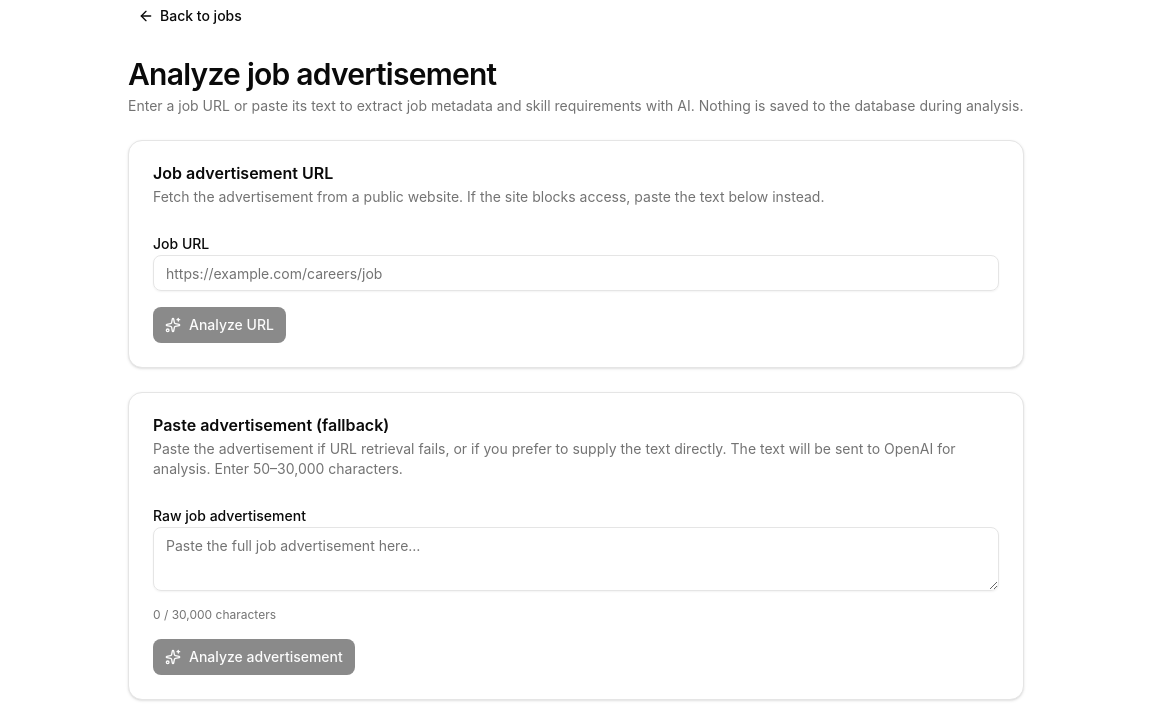
Test case: AnalyzeJobView (UC-12) › discards a proposal without persisting anything
This screenshot has width=1152, height=720.
Step 1. Type "Example Company seeks a Senior TypeScript Developer for our Copenhagen office. Full-time employment." into the text box with id "job-advertisement" → (576, 559), box [153,527,999,591]
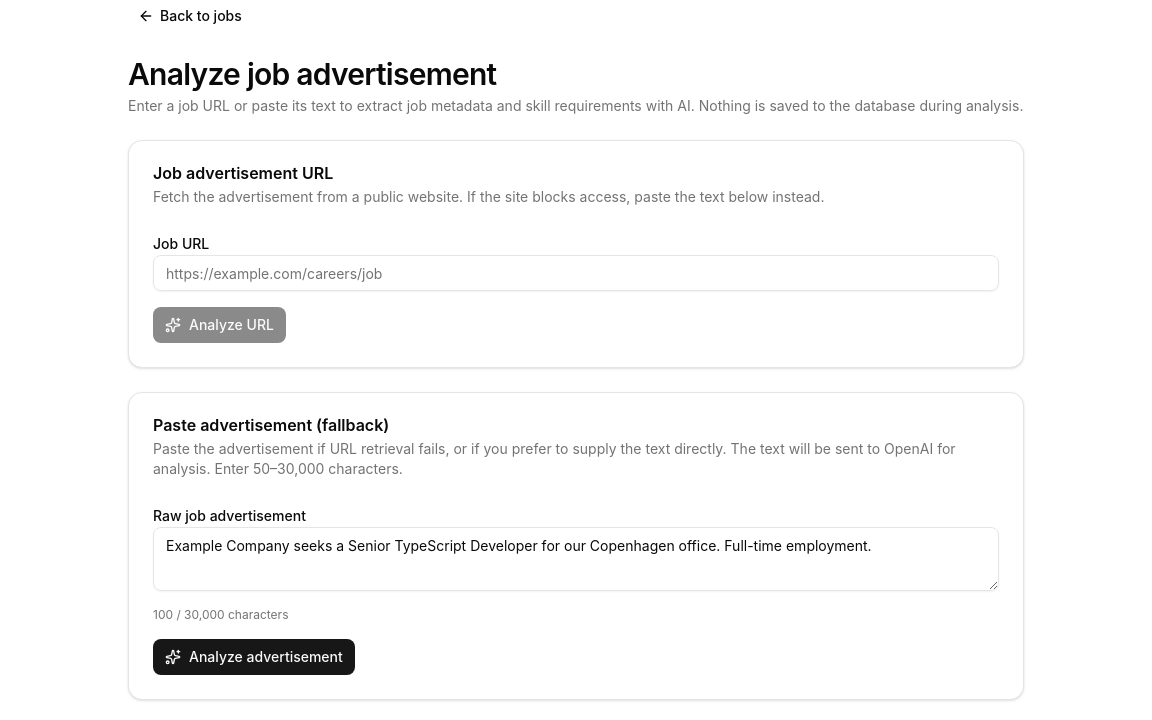
Step 2. Click the button "Analyze advertisement" → (254, 657), box [153,639,355,675]
(page scrolled)
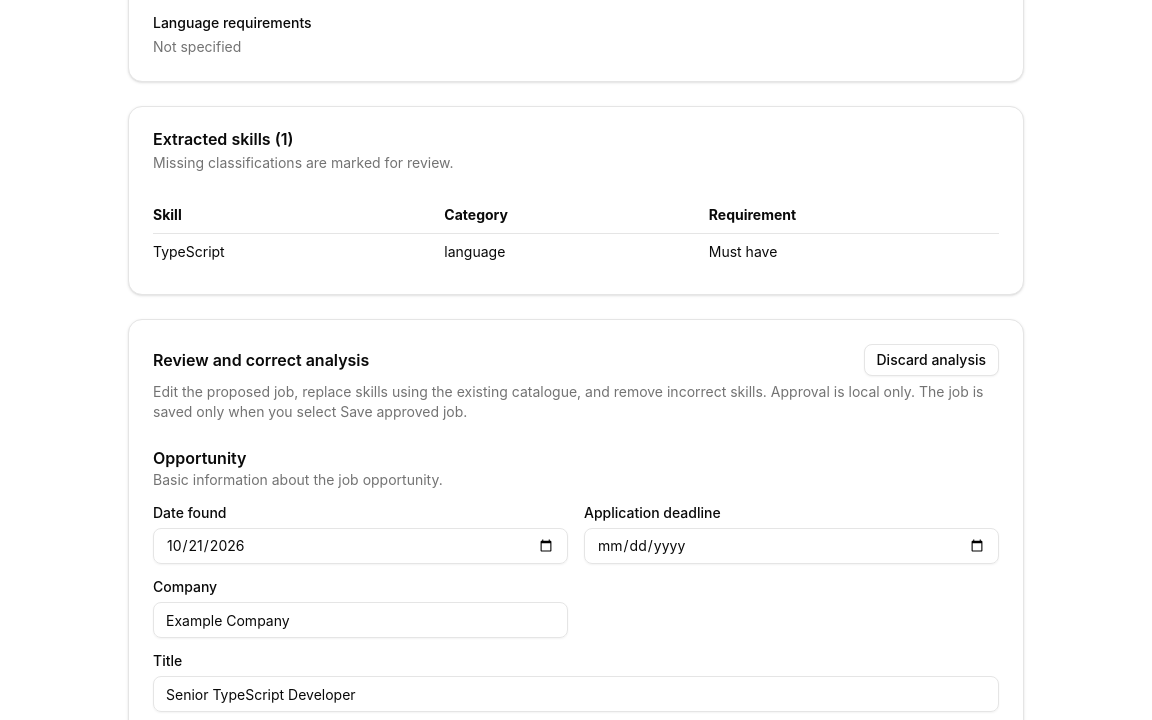
Step 3. Click the button "Discard analysis" → (931, 360), box [864,344,999,376]
(page scrolled)
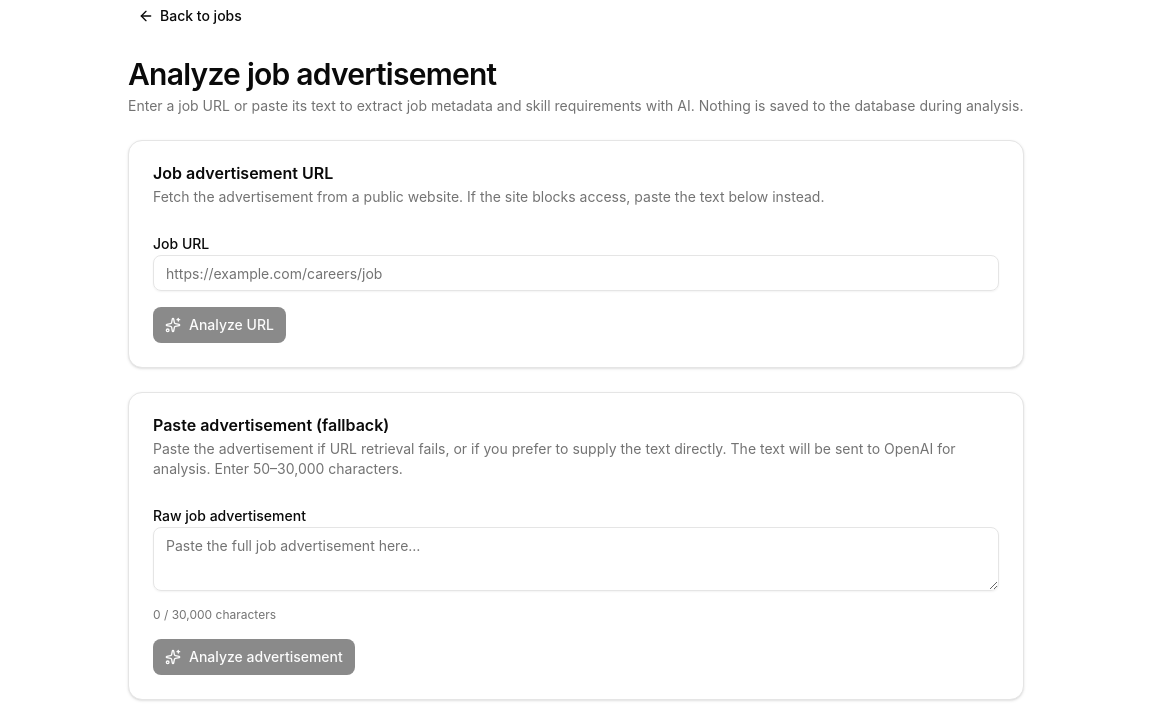
Now the text box with id "job-advertisement" is empty, box [153,527,999,591]
Now the text "Review and correct analysis" is gone
